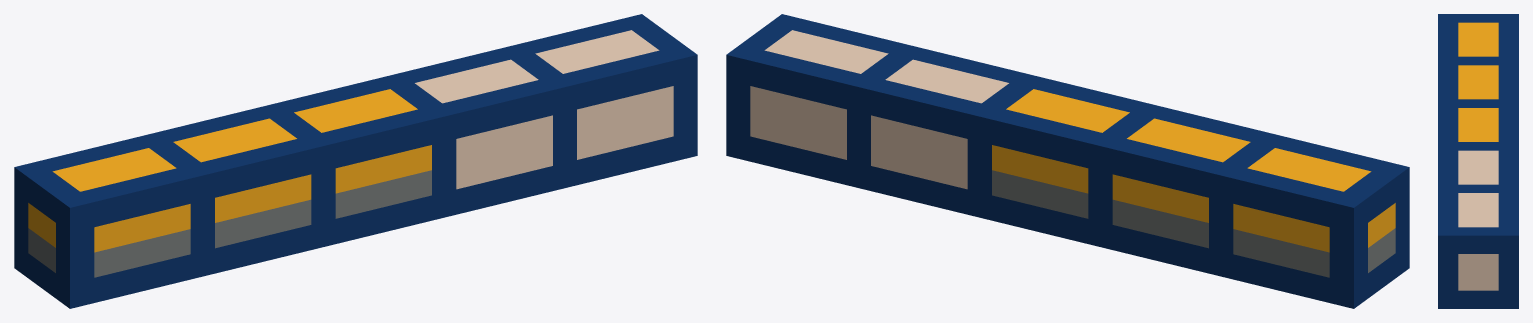
Rendered from segmeter_3.gltf.
3 views of the same model, side by side, from view 1: azimuth 30°, elevation 25°; view 2: azimuth 150°, elevation 25°; view 3: azimuth 270°, elevation 25° (orthographic). The views are drawn at different scales.
Size of the model in its own units: 2.6 by 0.4 by 0.4.
Materials: 1 (1 with a texture image).
